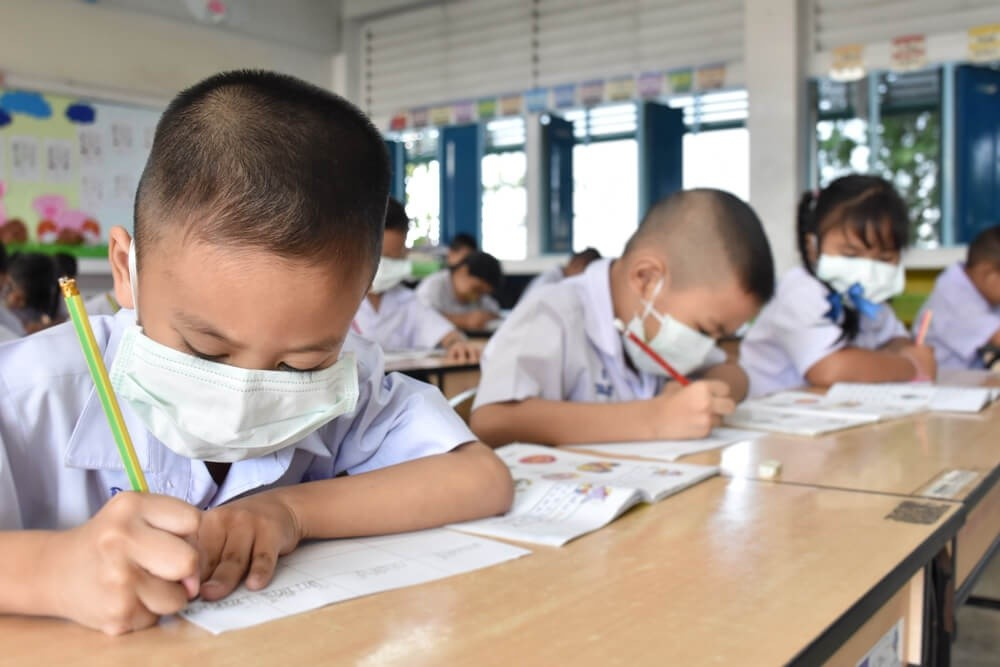face_no_mask: (443, 252, 502, 307)
face_with_mask: (113, 60, 394, 466), (608, 185, 777, 379), (805, 169, 911, 307)
